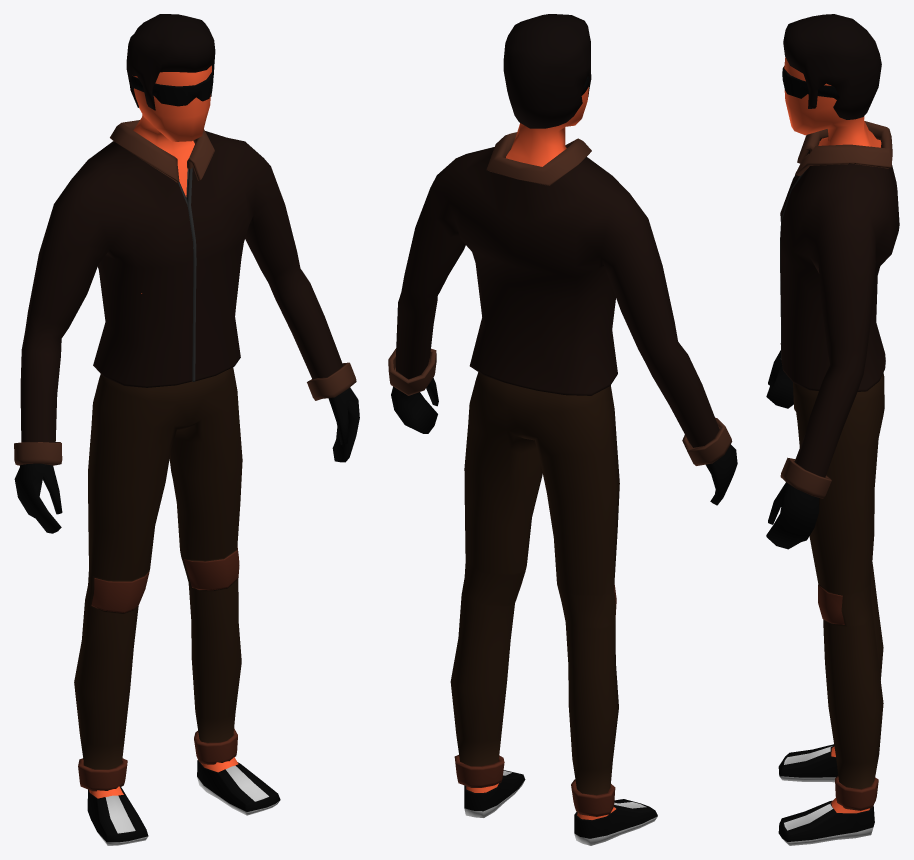
File: Character.obj
The picture shows the model from 3 angles, left to right: view 1: azimuth 30°, elevation 25°; view 2: azimuth 150°, elevation 25°; view 3: azimuth 270°, elevation 25°; orthographic projection.
Parts seen in each view (by area): view 1: Cube.006_Cube.008; view 2: Cube.006_Cube.008; view 3: Cube.006_Cube.008.
Part boxes in pixels (<box>): Cube.006_Cube.008: <box>14,14,359,845</box>; Cube.006_Cube.008: <box>388,14,737,845</box>; Cube.006_Cube.008: <box>766,14,899,845</box>.
Size of the model in its own units: 0.7883 by 1.78 by 0.2739.
